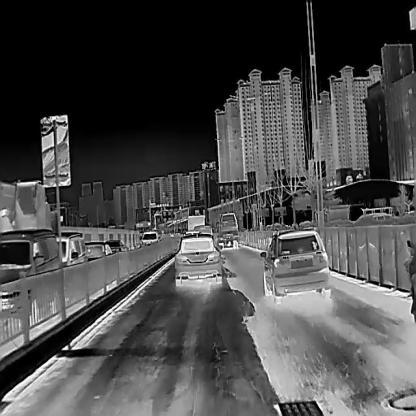car: (0, 227, 60, 323), (260, 227, 331, 295), (174, 233, 221, 286), (57, 231, 85, 267), (215, 212, 239, 250), (84, 241, 112, 259), (105, 239, 127, 253), (187, 214, 205, 231), (139, 230, 159, 244)
